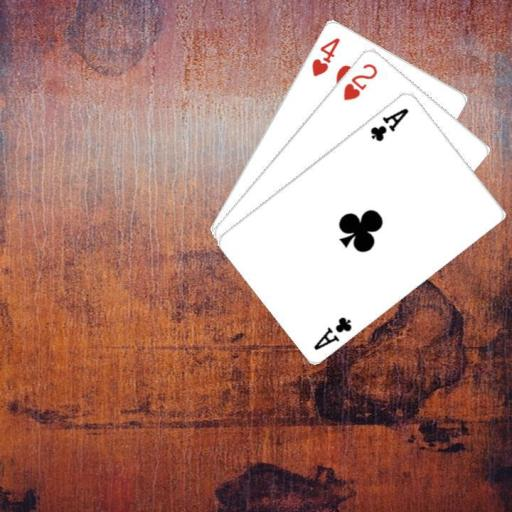2H: (340, 59, 379, 102)
4H: (308, 34, 341, 78)
AC: (367, 104, 410, 143), (310, 313, 353, 351)
